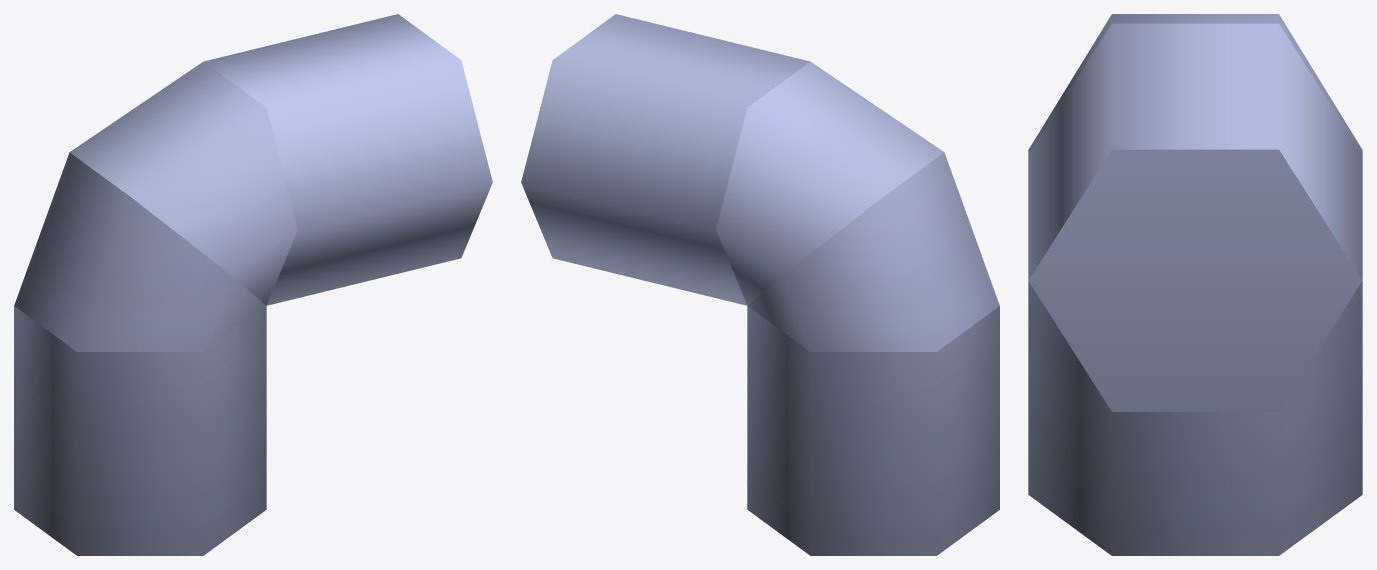
The model's file is kenney-space-station-pipe-bend.glb.
3 renders of one model, left to right at view 1: azimuth 30°, elevation 25°; view 2: azimuth 150°, elevation 25°; view 3: azimuth 270°, elevation 25°, orthographic. The views are drawn at different scales.
Visible parts, largest first — view 1: pipe-bend; view 2: pipe-bend; view 3: pipe-bend.
Boxes of the visible parts, x1,y1,x2,y2 form: pipe-bend: (14,14,492,555); pipe-bend: (521,14,999,555); pipe-bend: (1028,14,1362,555).
Size of the model in its own units: 0.5 by 0.5 by 0.2845.
Materials: 1 (1 with a texture image).
